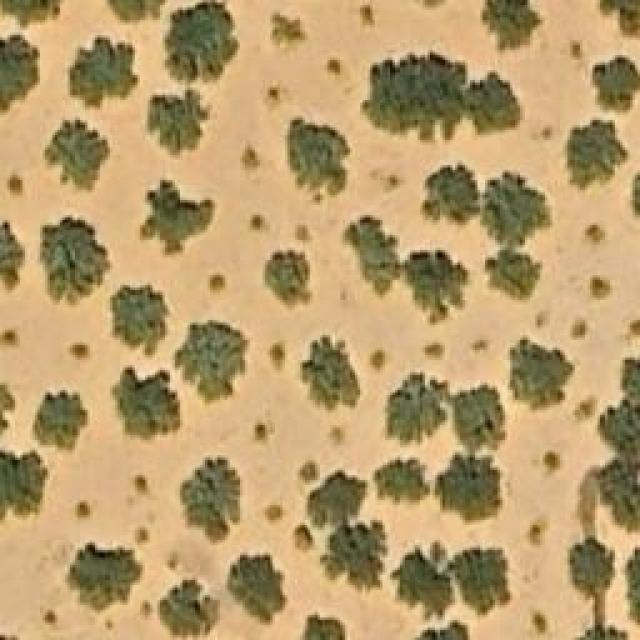Tree: (360, 50, 465, 133), (38, 215, 111, 308), (137, 180, 215, 260), (175, 320, 248, 405), (164, 0, 237, 82), (180, 455, 243, 543), (285, 118, 350, 203), (110, 365, 180, 443), (68, 35, 138, 110), (43, 118, 113, 193), (67, 545, 145, 610), (298, 335, 361, 415), (482, 170, 550, 243), (563, 120, 633, 190), (508, 335, 573, 410), (108, 283, 171, 358), (228, 547, 288, 625), (343, 215, 398, 295), (438, 455, 501, 520), (405, 250, 465, 318), (330, 523, 390, 588), (455, 540, 510, 610), (158, 580, 221, 640), (148, 90, 208, 153), (395, 548, 455, 611), (30, 390, 88, 453), (0, 448, 45, 528), (595, 452, 640, 530), (385, 378, 443, 438), (480, 0, 543, 55), (468, 73, 523, 133), (0, 35, 40, 115), (590, 55, 640, 115), (263, 250, 313, 310), (425, 168, 478, 221), (455, 390, 503, 448), (478, 253, 533, 303), (310, 473, 365, 523), (377, 458, 425, 501), (0, 0, 65, 30), (597, 407, 640, 450), (0, 223, 25, 296), (270, 10, 310, 55), (600, 0, 640, 35), (104, 0, 167, 22), (297, 612, 345, 640), (578, 220, 608, 253), (250, 413, 275, 446), (525, 515, 550, 548), (290, 523, 313, 556), (530, 610, 553, 640), (268, 340, 288, 373), (328, 57, 351, 85), (368, 345, 391, 373), (240, 145, 263, 170), (68, 340, 93, 360), (258, 505, 283, 525), (0, 328, 20, 351), (570, 318, 590, 341), (250, 213, 270, 233), (590, 278, 610, 298), (135, 528, 150, 553), (8, 173, 23, 196), (360, 3, 375, 26), (207, 275, 225, 293)
